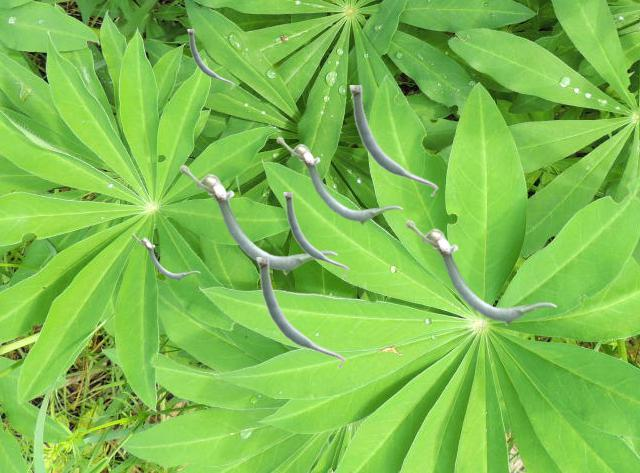french_bean: (179, 164, 337, 274), (405, 219, 556, 325), (276, 136, 402, 224), (256, 257, 344, 368), (349, 85, 437, 196), (283, 192, 348, 275), (131, 233, 199, 280), (187, 29, 233, 88)
